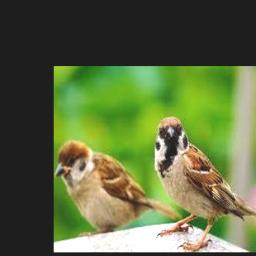Sparrow: (155, 116, 256, 251), (55, 140, 181, 236)
